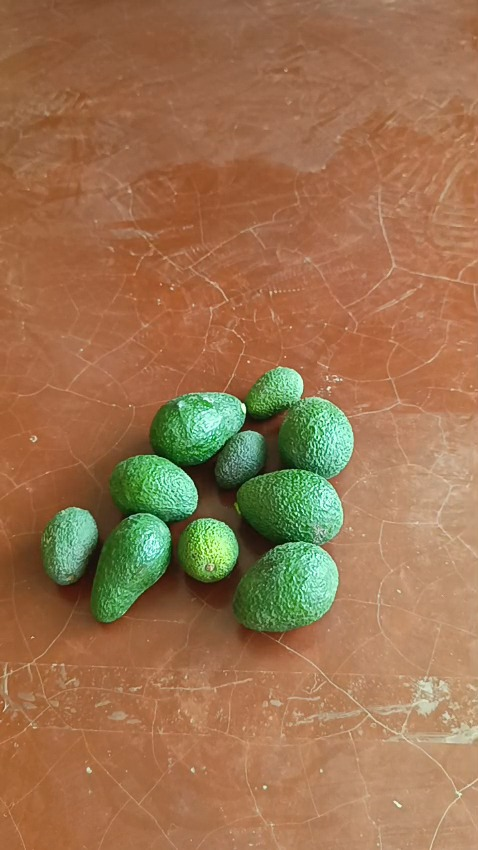Primera: (231, 541, 338, 630), (234, 467, 343, 543), (149, 391, 245, 465), (276, 397, 354, 477)
Segunda: (90, 513, 173, 622), (107, 453, 198, 523)
Tercera: (40, 506, 98, 586), (176, 516, 240, 582), (244, 366, 305, 420), (214, 429, 266, 489)
